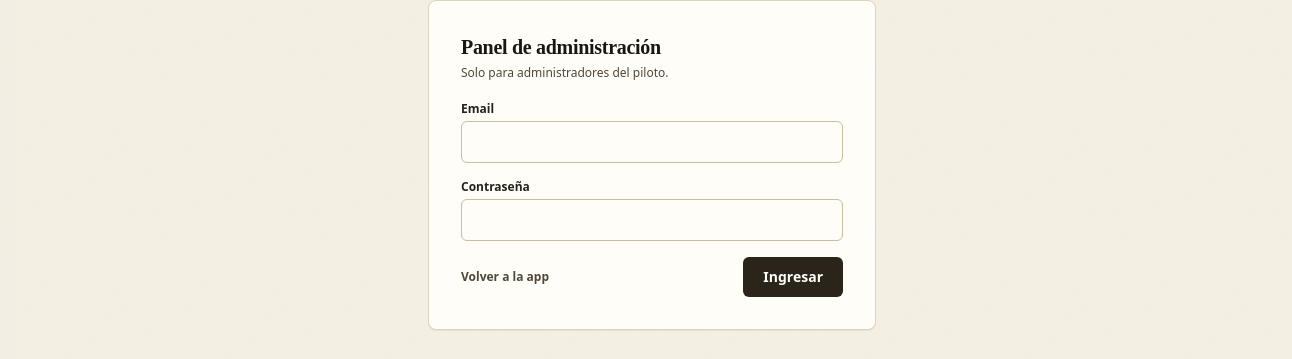
Test: AdminView — baja de entradas publicadas › lista lo que ve el público y avisa que la baja es inmediata y queda registrada
The image size is (1292, 359).
Type "admin@ejemplo.com" into the field labelled "Email". click: (652, 142)
box: [461,121,843,163]
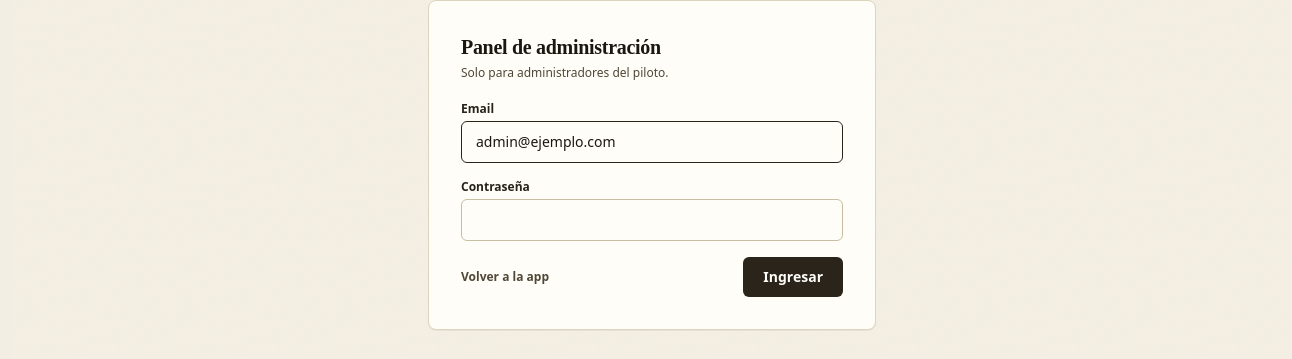
Type "secreta" into the password field labelled "Contraseña". click: (652, 220)
box: [461,199,843,241]
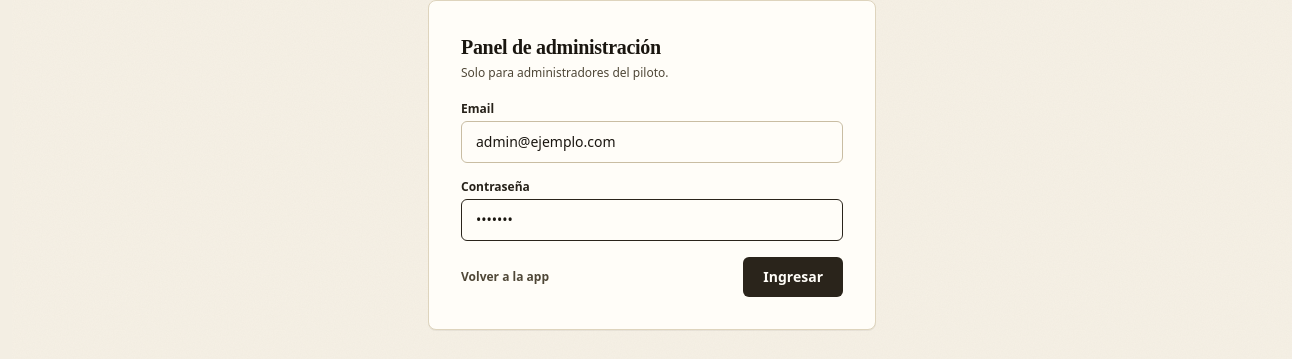
Click the button "Ingresar". click: (793, 277)
box: [743,257,843,297]
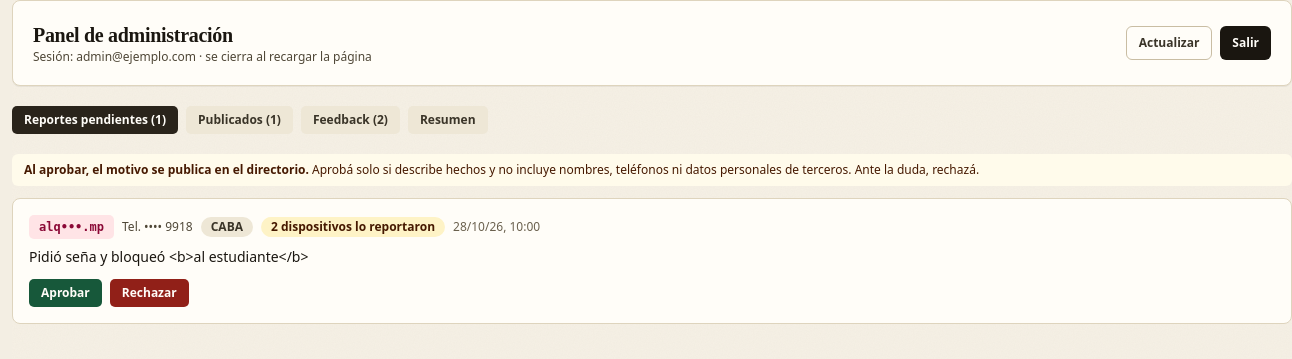
Click the button "Publicados (1)". click: (240, 120)
box: [186,106,293,134]
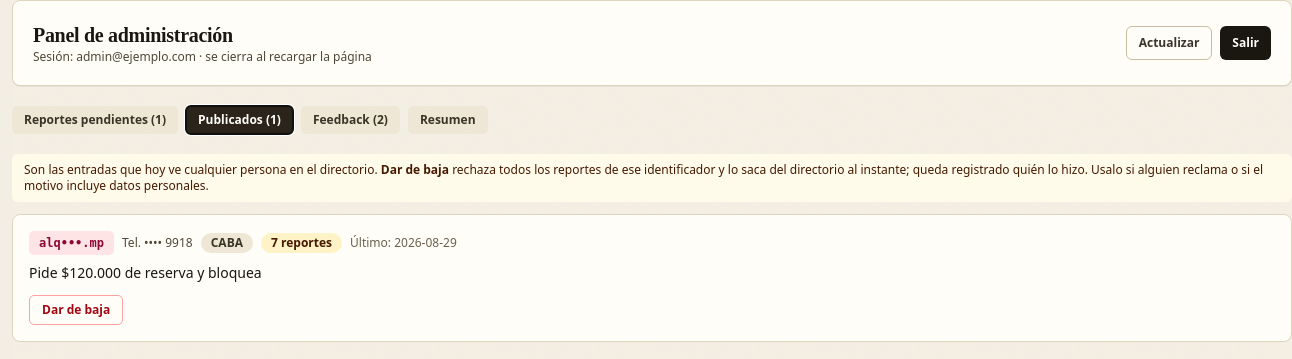
Expected: the text "alq•••.mp" is shown, [29,231,114,255]
Expected: the text "7 reportes" is shown, [261,233,342,253]
Expected: the text "Pide $120.000 de reserva y bloquea" is shown, [29,263,262,282]
